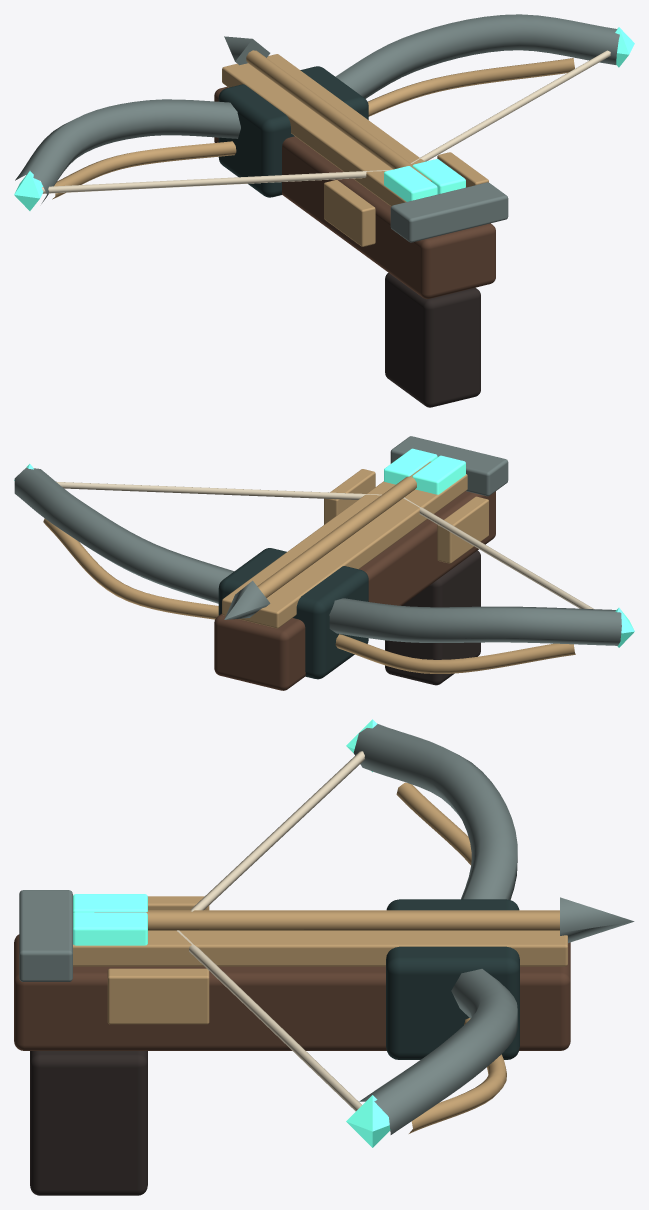
3 views of the same model, one above another, from view 1: azimuth 30°, elevation 25°; view 2: azimuth 150°, elevation 25°; view 3: azimuth 270°, elevation 25° (orthographic). The views are drawn at different scales.
Visible parts, largest first — view 1: swept steel limb (×2), long ash stock, wrapped hand grip, bolt guide, bow mounting socket, limb filigree (×2), bolt catch, bow string (×2), cocking gear (×2), loaded bolt, bolt fletching (×2), bolt head (+1 smaller); view 2: swept steel limb (×2), long ash stock, bolt guide, limb filigree (×2), bow mounting socket, wrapped hand grip, bow string (×2), cocking gear (×2), loaded bolt, bolt catch, bolt fletching (×2), bolt head; view 3: long ash stock, swept steel limb (×2), wrapped hand grip, bolt guide, bow mounting socket, loaded bolt, cocking gear (×2), bolt catch, bow string (×2), limb filigree (×2), bolt fletching (×2), bolt head (+1 smaller).
Part boxes in pixels (left/top/right/bottom): swept steel limb (×2): left=15, top=14, right=619, bottom=203; long ash stock: left=214, top=86, right=495, bottom=298; wrapped hand grip: left=385, top=273, right=480, bottom=407; bolt guide: left=222, top=54, right=424, bottom=206; bow mounting socket: left=218, top=66, right=368, bottom=197; limb filigree (×2): left=52, top=58, right=574, bottom=199; bolt catch: left=390, top=182, right=508, bottom=242; bow string (×2): left=42, top=50, right=610, bottom=193; cocking gear (×2): left=324, top=152, right=488, bottom=246; loaded bolt: left=246, top=50, right=431, bottom=181; bolt fletching (×2): left=384, top=159, right=465, bottom=201; bolt head: left=224, top=36, right=270, bottom=65; swept steel limb (×2): left=14, top=467, right=621, bottom=645; long ash stock: left=214, top=491, right=495, bottom=690; bolt guide: left=222, top=474, right=467, bottom=628; limb filigree (×2): left=43, top=518, right=575, bottom=673; bow mounting socket: left=218, top=548, right=368, bottom=679; wrapped hand grip: left=385, top=550, right=480, bottom=685; bow string (×2): left=56, top=481, right=594, bottom=609; cocking gear (×2): left=324, top=469, right=488, bottom=563; loaded bolt: left=257, top=461, right=431, bottom=597; bolt catch: left=390, top=436, right=508, bottom=496; bolt fletching (×2): left=384, top=448, right=465, bottom=494; bolt head: left=224, top=580, right=270, bottom=619; long ash stock: left=14, top=934, right=570, bottom=1050; swept steel limb (×2): left=353, top=723, right=517, bottom=1134; wrapped hand grip: left=30, top=1051, right=147, bottom=1195; bolt guide: left=73, top=910, right=567, bottom=966; bow mounting socket: left=386, top=899, right=519, bottom=1059; loaded bolt: left=94, top=911, right=559, bottom=930; cocking gear (×2): left=107, top=896, right=209, bottom=1024; bolt catch: left=19, top=890, right=72, bottom=981; bow string (×2): left=177, top=751, right=364, bottom=1111; limb filigree (×2): left=396, top=782, right=506, bottom=1133; bolt fletching (×2): left=73, top=894, right=147, bottom=945; bolt head: left=560, top=897, right=634, bottom=942.
Bounding box in the file's own units: 1.75 × 0.585 × 1.16.
